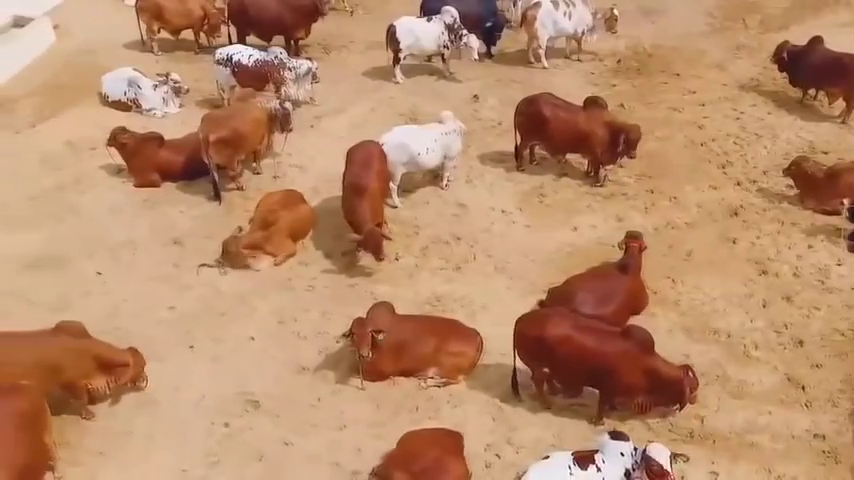bo: (501, 304, 703, 428), (2, 316, 157, 441), (533, 221, 670, 333), (339, 291, 485, 391), (508, 84, 646, 185), (202, 83, 300, 196), (371, 105, 468, 218), (211, 182, 313, 282), (499, 430, 695, 480), (99, 111, 203, 205), (339, 416, 485, 480), (376, 7, 481, 89), (335, 128, 393, 269), (208, 37, 308, 118), (767, 29, 849, 126), (517, 1, 628, 65), (126, 2, 225, 69), (95, 53, 190, 122), (220, 3, 338, 58), (7, 383, 73, 480), (775, 143, 854, 223), (417, 1, 511, 61)
